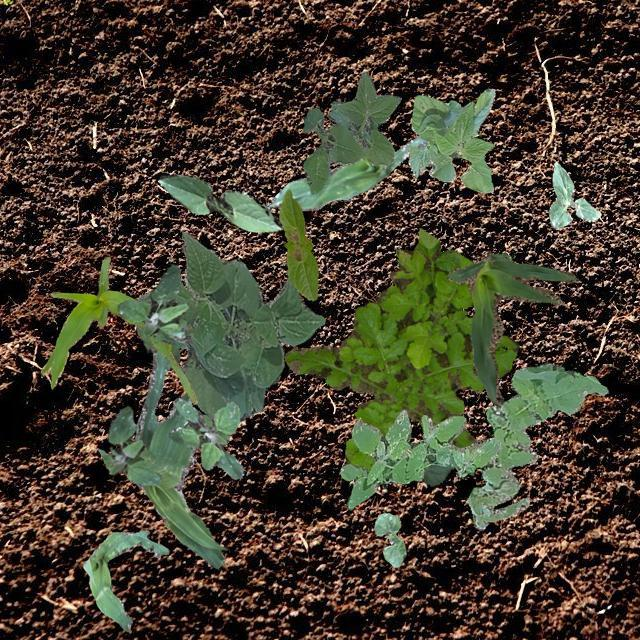crop: (136, 230, 324, 420), (40, 255, 196, 402), (132, 343, 225, 568), (446, 250, 576, 406), (268, 136, 426, 210), (408, 88, 493, 192), (82, 530, 168, 630), (157, 174, 280, 232), (278, 188, 318, 300), (548, 160, 600, 228), (372, 512, 404, 566), (422, 464, 451, 486)
weed: (282, 227, 518, 468), (466, 362, 606, 528), (338, 408, 501, 508), (302, 70, 401, 192), (116, 264, 192, 348), (168, 397, 242, 478), (98, 406, 160, 484)
